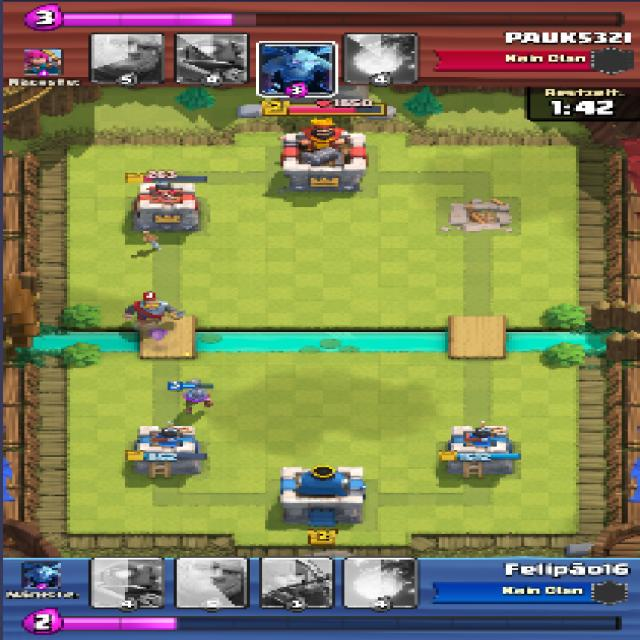Enemy-Knight: (119, 301, 185, 327)
Player-Musketeer: (172, 379, 215, 412)
